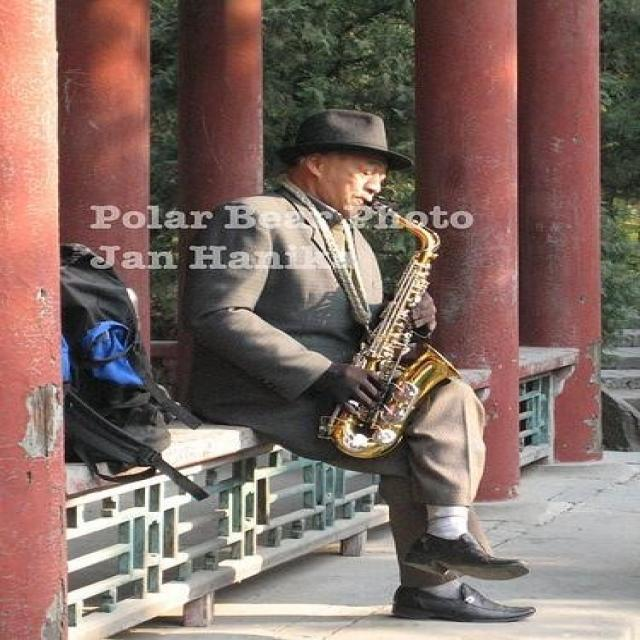saxophone: (316, 197, 466, 453)
